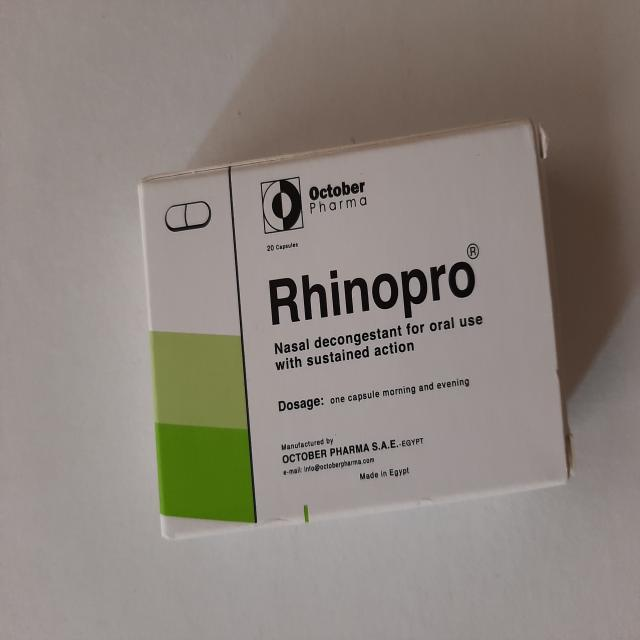Medicine Name: (262, 257, 478, 327)
